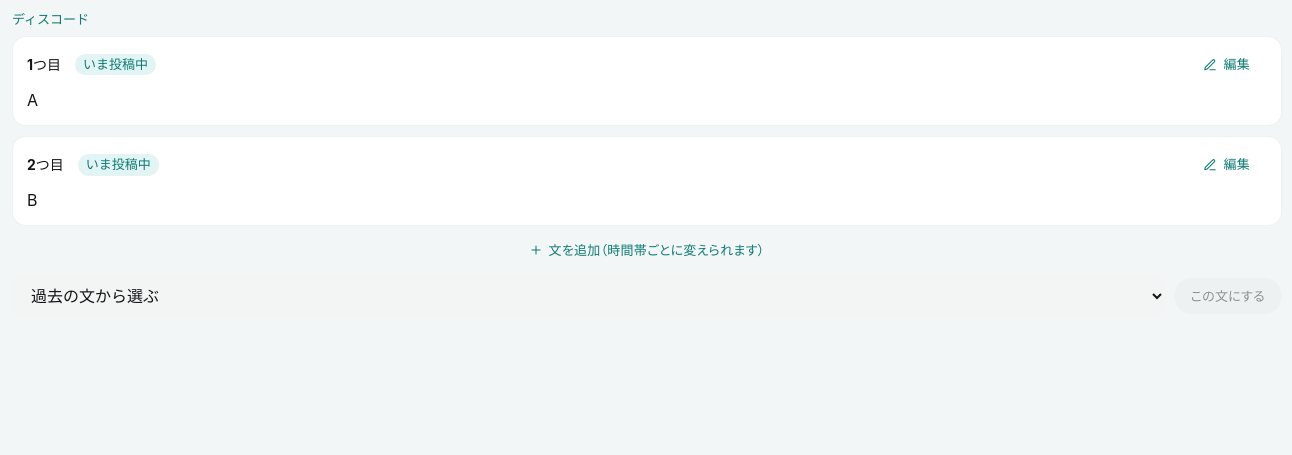
Scenario: ChannelTextRow（トップの一番上の、いま投稿されている文） › その場で直す（編集） › 書いているあいだは、ほかの文の「編集」は押せない（二つ同時に直さない）
Click the button with aria-label "ディスコードの1つ目の文を編集" at (1227, 64), box x1=1188 y1=46 x2=1267 y2=82
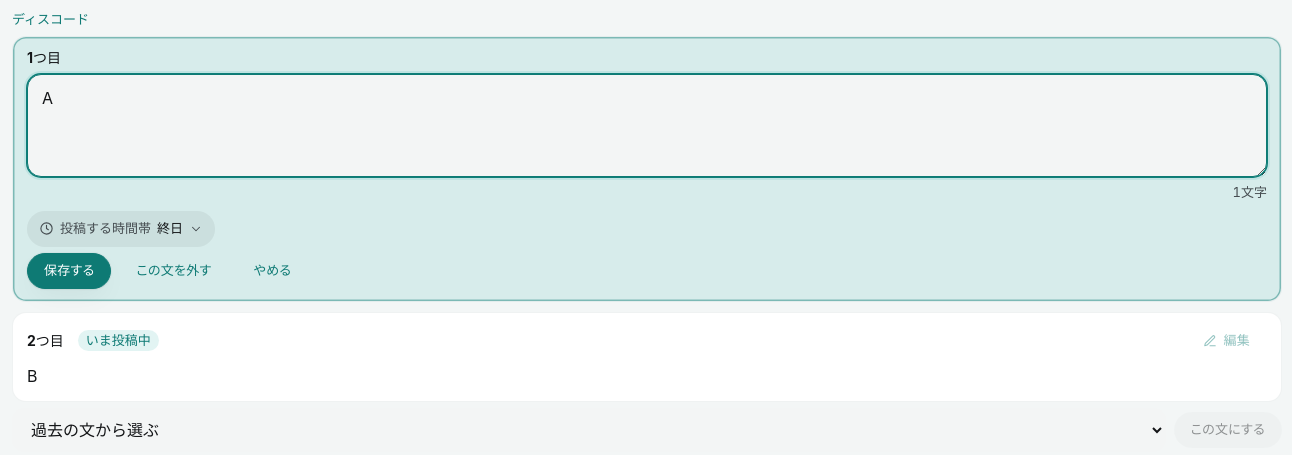
Expected: the button with aria-label "ディスコードの2つ目の文を編集" is disabled, x1=1188 y1=323 x2=1267 y2=359
